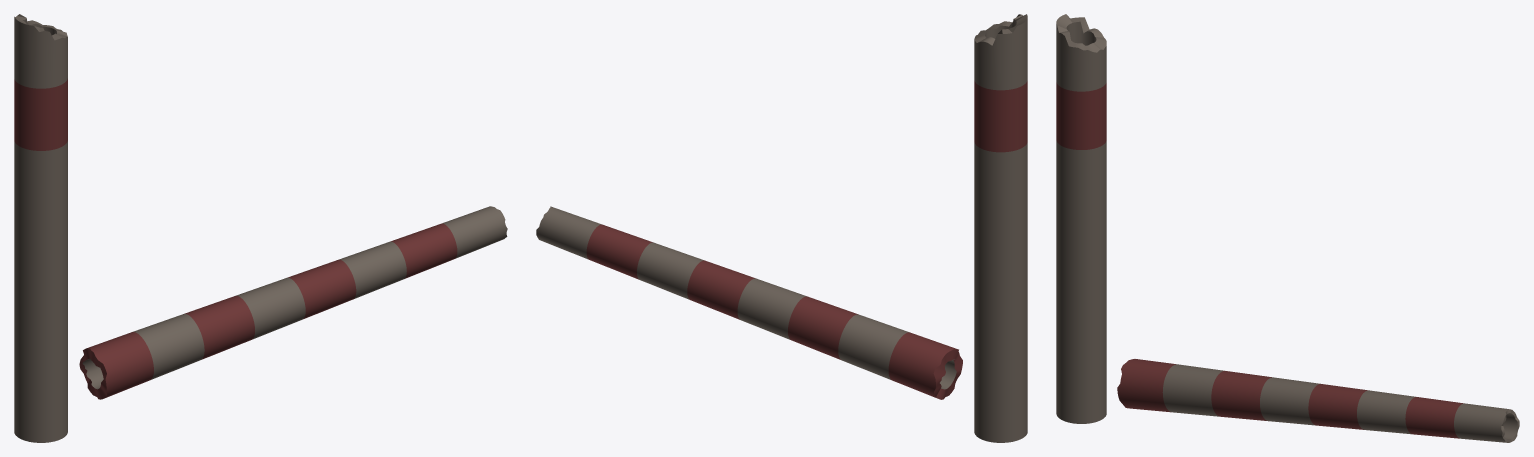
The model's file is FactoryChimneyBroken 1.fbx.
3 renders of one model, left to right at view 1: azimuth 30°, elevation 25°; view 2: azimuth 150°, elevation 25°; view 3: azimuth 330°, elevation 25°, orthographic. The views are drawn at different scales.
Visible parts, largest first — view 1: Cylinder, Cylinder.001; view 2: Cylinder, Cylinder.001; view 3: Cylinder, Cylinder.001.
Boxes of the visible parts, <box> form: Cylinder: <box>14,14,67,442</box>; Cylinder.001: <box>79,206,507,399</box>; Cylinder: <box>974,14,1027,442</box>; Cylinder.001: <box>536,206,962,399</box>; Cylinder: <box>1056,14,1106,423</box>; Cylinder.001: <box>1117,359,1519,442</box>.
Size of the model in its own units: 4447 by 3666 by 429.
